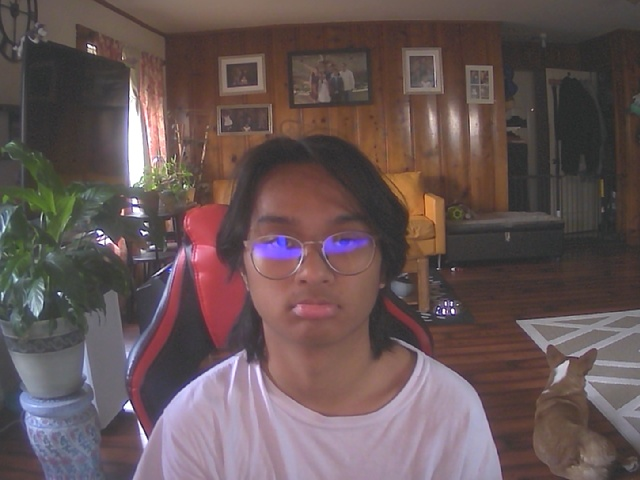sad: (236, 136, 395, 348)
